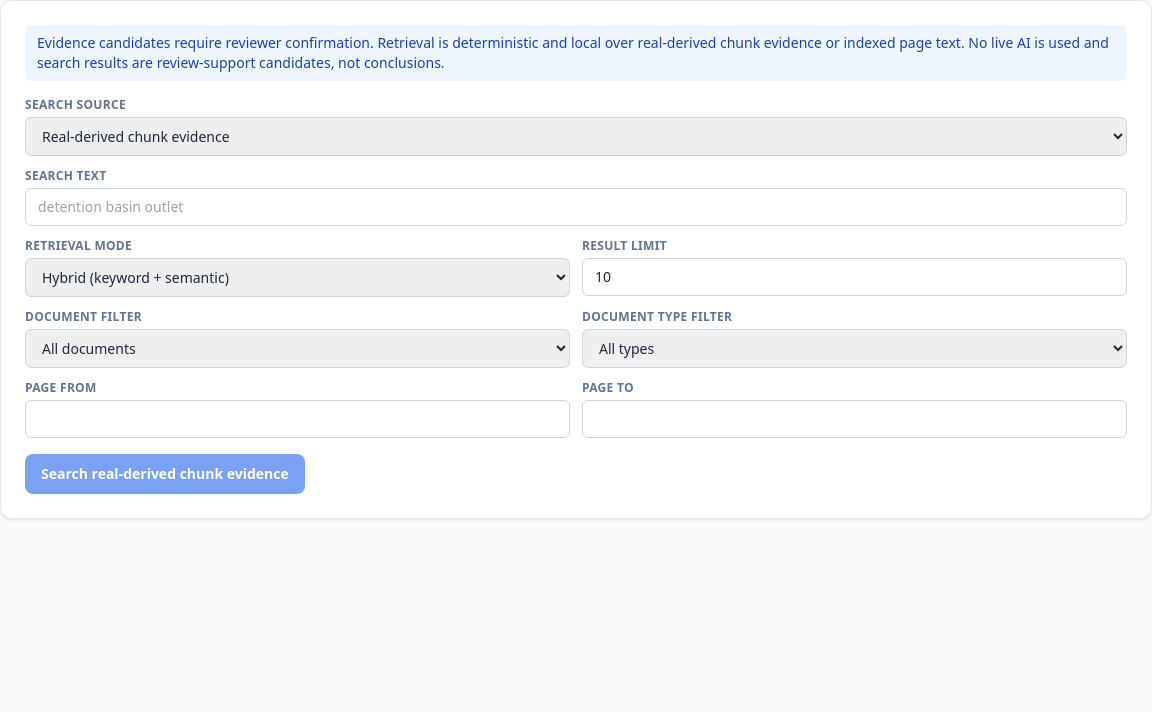
Test: Evidence search client › renders a semantic note for results without match terms
The image size is (1152, 712).
Type "retention pond" into the field with placeholder "detention basin outlet" at {"x": 576, "y": 207}, box x1=25 y1=188 x2=1127 y2=226
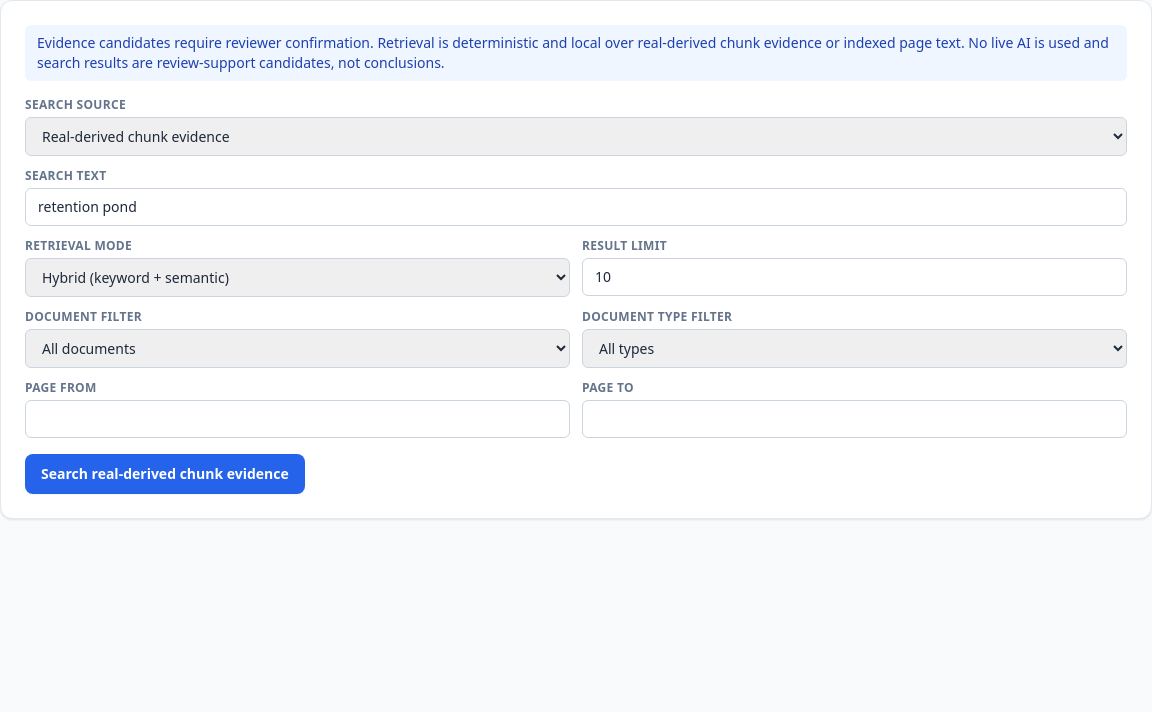
Click the button "Search real-derived chunk evidence" at {"x": 165, "y": 474}, box x1=25 y1=454 x2=305 y2=494
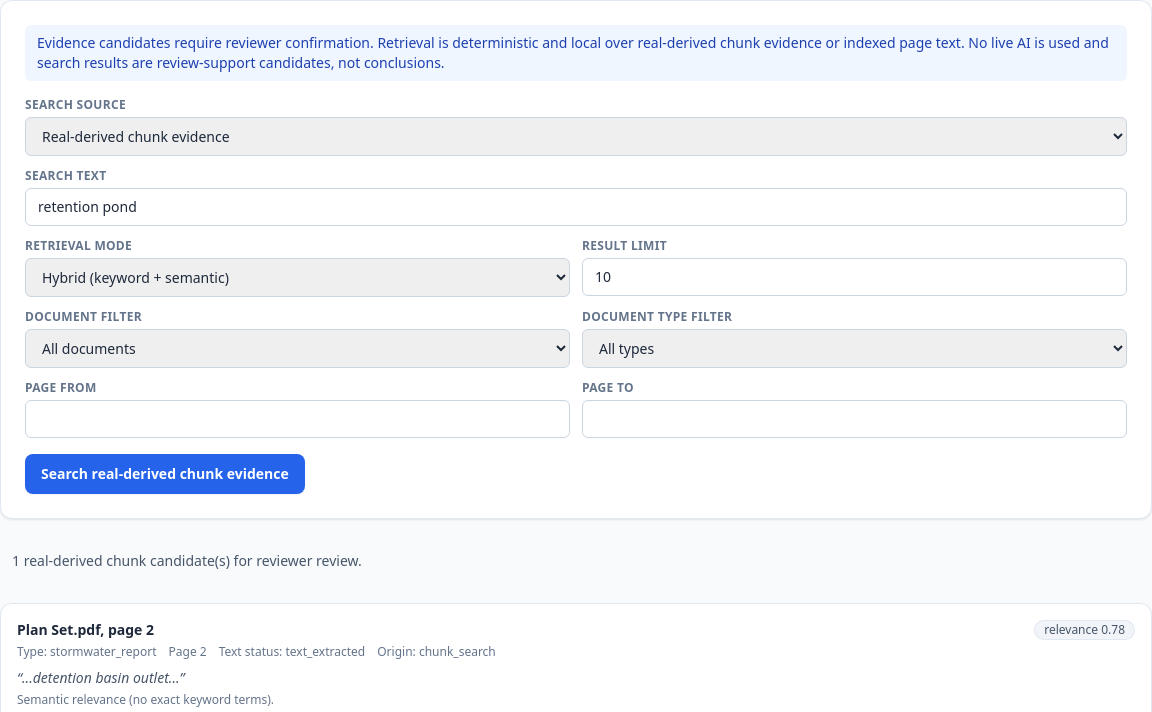
Check: the text "Semantic relevance (no exact keyword terms)." is shown, box x1=17 y1=691 x2=274 y2=708
